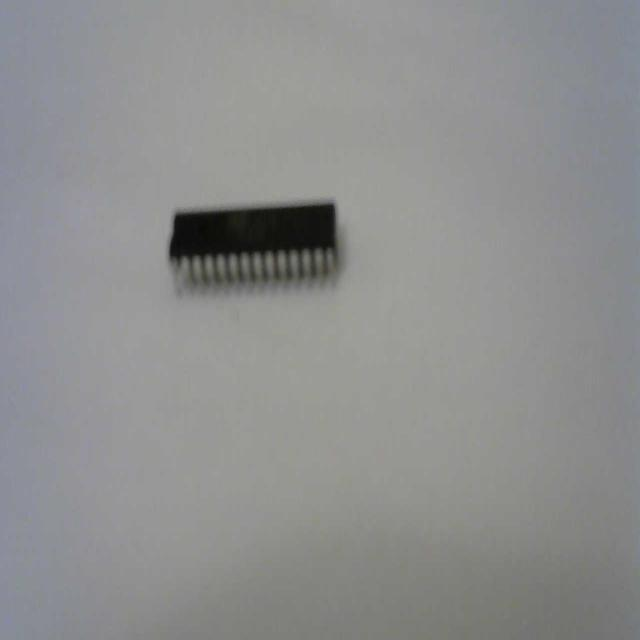atmega: (166, 194, 340, 300)
